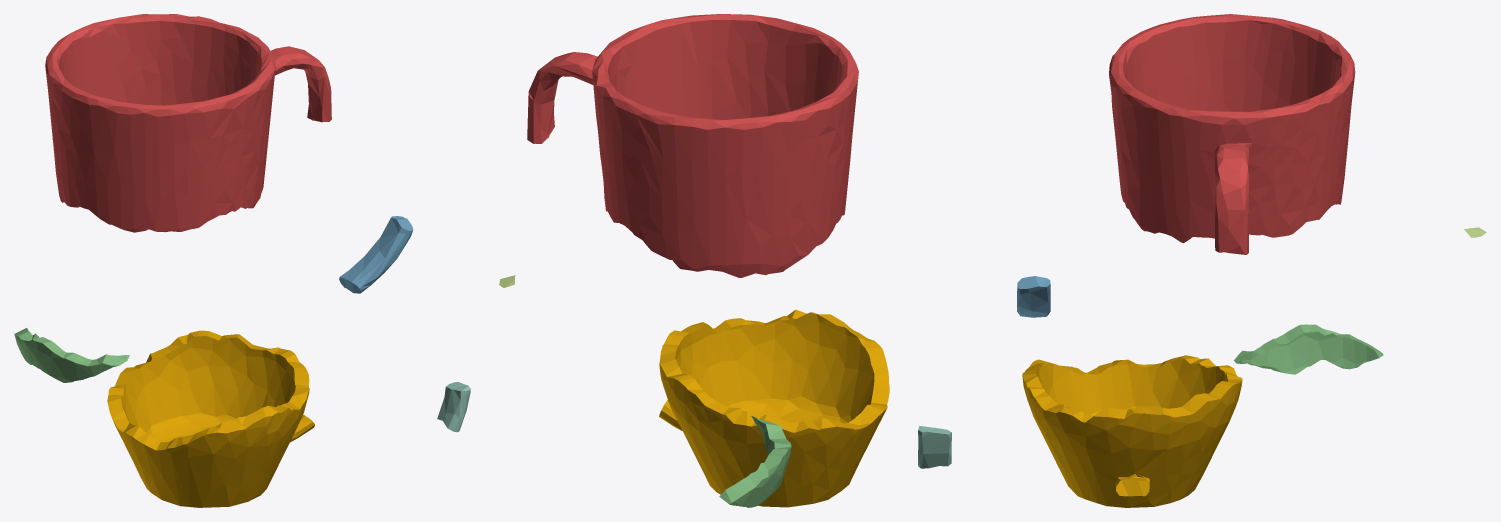
File: mode_10_6pcs_transformed.glb
The picture shows the model from 3 angles, left to right: view 1: azimuth 30°, elevation 25°; view 2: azimuth 150°, elevation 25°; view 3: azimuth 270°, elevation 25°; orthographic projection. The views are drawn at different scales.
Parts seen in each view (by area): view 1: piece_1.obj, piece_0.obj, piece_3.obj, piece_2.obj, piece_4.obj; view 2: piece_1.obj, piece_0.obj, piece_3.obj; view 3: piece_1.obj, piece_0.obj, piece_3.obj, piece_4.obj, piece_2.obj.
Part boxes in pixels (box(x1,y1,x2,y2)): piece_1.obj: box(45, 14, 331, 232); piece_0.obj: box(107, 330, 314, 507); piece_3.obj: box(14, 328, 129, 382); piece_2.obj: box(339, 216, 413, 293); piece_4.obj: box(437, 382, 470, 432); piece_1.obj: box(527, 14, 858, 277); piece_0.obj: box(659, 309, 889, 507); piece_3.obj: box(719, 416, 791, 507); piece_1.obj: box(1109, 14, 1355, 254); piece_0.obj: box(1022, 355, 1242, 507); piece_3.obj: box(1234, 324, 1383, 374); piece_4.obj: box(918, 425, 951, 468); piece_2.obj: box(1017, 276, 1050, 317).
Size of the model in its own units: 1 by 1.4 by 1.72.
